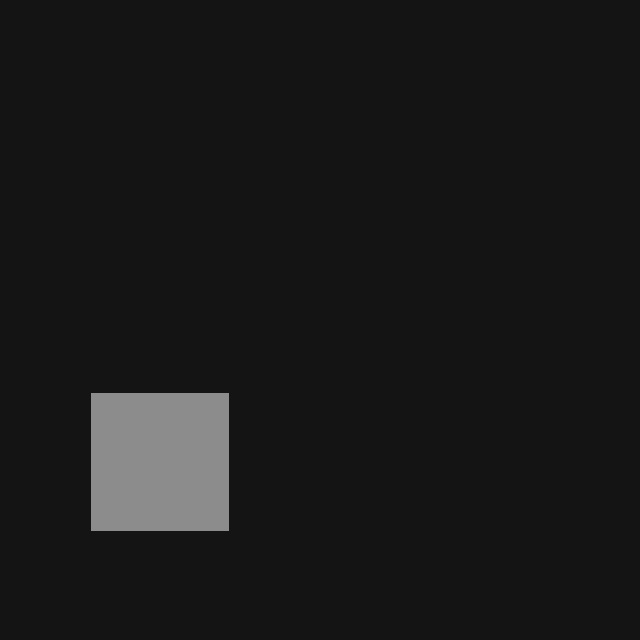square: (91, 393, 228, 530)
